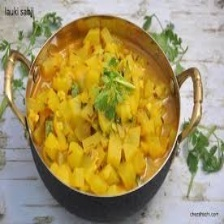sabzi: (26, 24, 179, 196)
